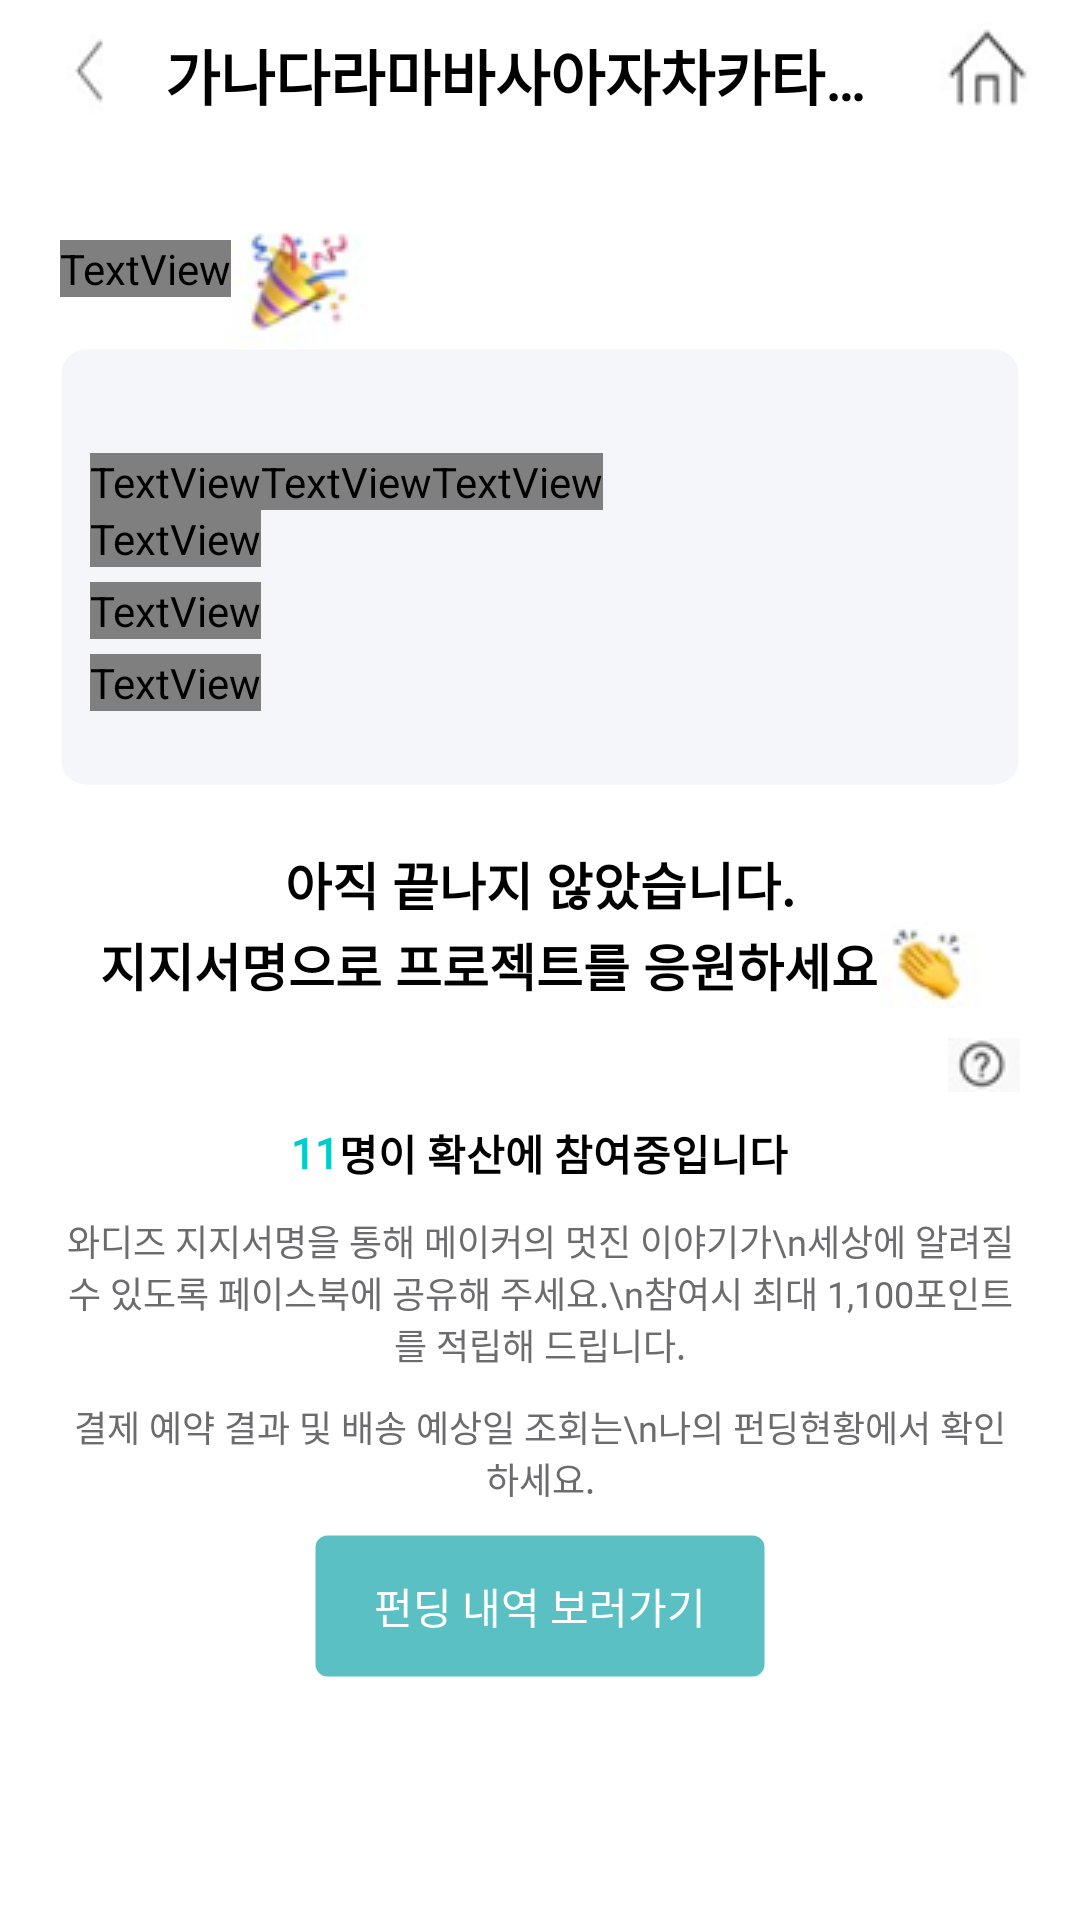

Screen size 1080px x 1920px. Icon name, then its center in pixels as (x,y):
back: (89,70)
clap: (927,965)
home: (987,67)
question circle: (982,1064)
